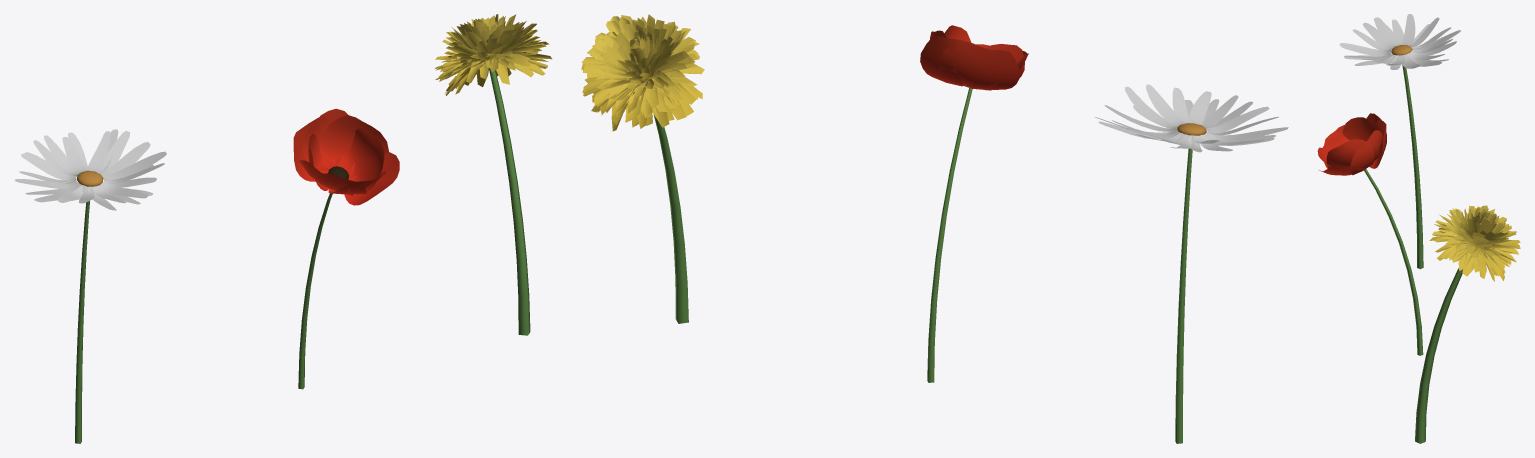
The model's file is flowers.glb.
The picture shows the model from 3 angles, left to right: view 1: azimuth 30°, elevation 25°; view 2: azimuth 150°, elevation 25°; view 3: azimuth 270°, elevation 25°; orthographic projection. The views are drawn at different scales.
Visible parts, largest first — view 1: Rei_Flower_White, Rei_Flower_Gold, Rei_Flower_Red; view 2: Rei_Flower_Gold, Rei_Flower_White, Rei_Flower_Red; view 3: Rei_Flower_Gold, Rei_Flower_White, Rei_Flower_Red.
Part boxes in pixels (x1,y1,x2,y2): Rei_Flower_White: (14,129,166,443); Rei_Flower_Gold: (435,14,552,335); Rei_Flower_Red: (293,108,399,389); Rei_Flower_Gold: (581,14,704,323); Rei_Flower_White: (1095,84,1288,443); Rei_Flower_Red: (920,25,1028,382); Rei_Flower_Gold: (1415,205,1520,443); Rei_Flower_White: (1339,14,1460,269); Rei_Flower_Red: (1317,113,1423,355).
Bounding box in the file's own units: 2.04 × 1 × 0.7924.
